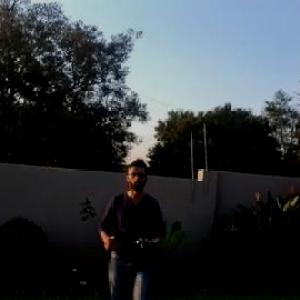follow: (94, 157, 168, 299)
